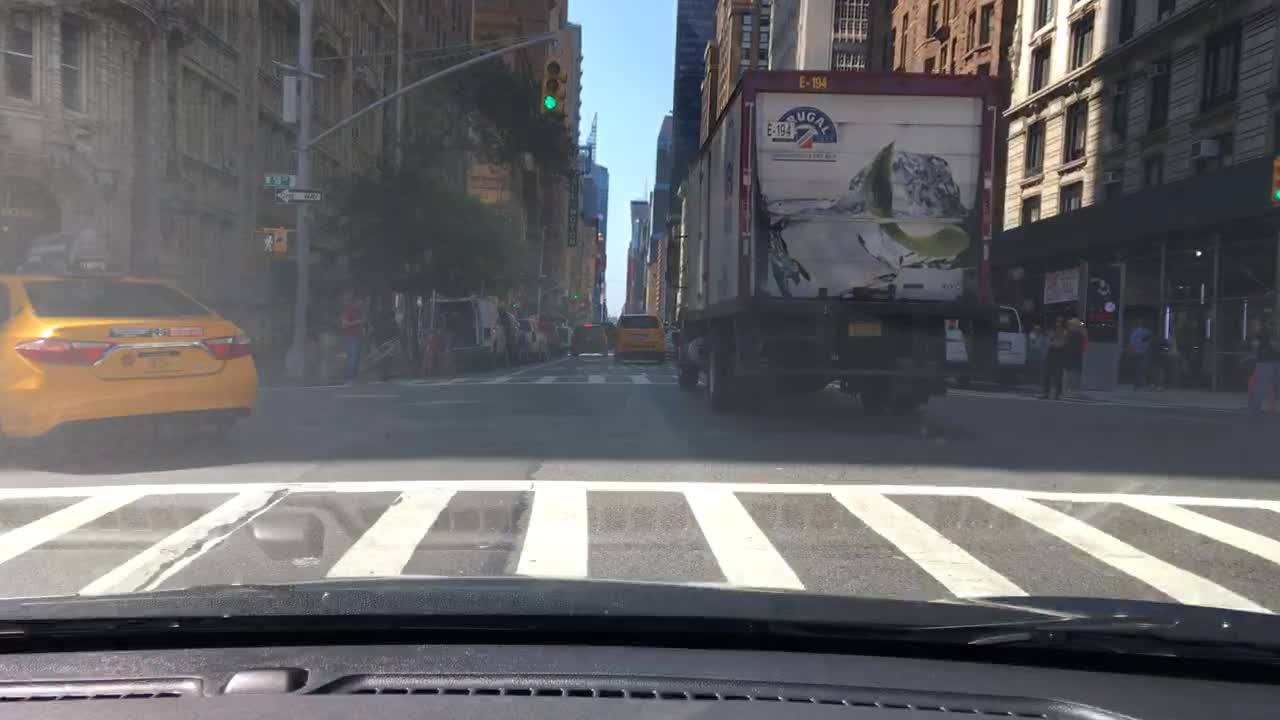car: (2, 225, 261, 455), (944, 300, 1025, 392), (609, 315, 664, 370), (568, 324, 605, 365), (555, 328, 578, 355), (665, 332, 684, 362), (601, 317, 615, 349)
person: (342, 294, 368, 390), (1235, 316, 1267, 387), (1125, 311, 1151, 391), (1040, 327, 1064, 400), (1067, 306, 1084, 390), (1029, 325, 1047, 394)
traffic light: (542, 56, 563, 119), (258, 225, 292, 254), (555, 68, 573, 112), (1270, 154, 1278, 203), (572, 287, 579, 302)
traffic sign: (278, 76, 299, 128), (268, 190, 321, 203), (259, 174, 299, 187)
truck: (664, 65, 1008, 411), (421, 295, 505, 373), (502, 312, 546, 365)
